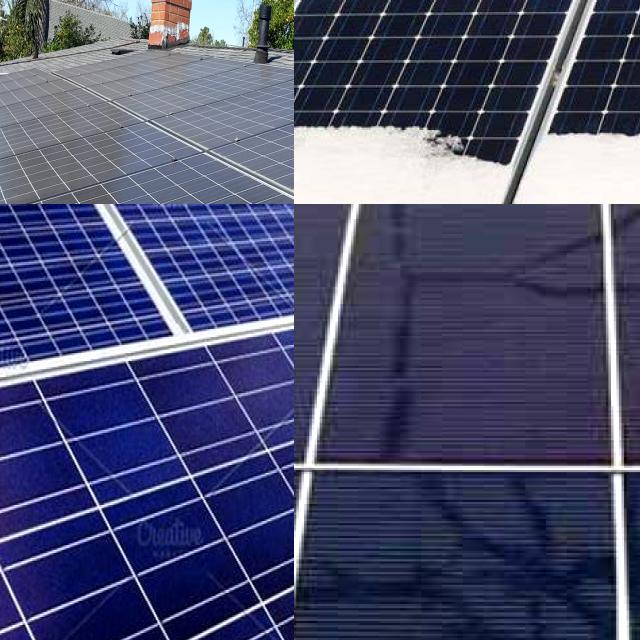crack: (0, 313, 294, 640), (94, 204, 294, 354)
panel: (294, 108, 519, 185), (522, 92, 640, 181), (458, 0, 590, 45), (324, 0, 436, 37), (294, 51, 351, 121), (294, 0, 385, 43), (294, 5, 333, 62), (294, 148, 329, 204)
shadow: (300, 464, 640, 640), (353, 204, 600, 441)
